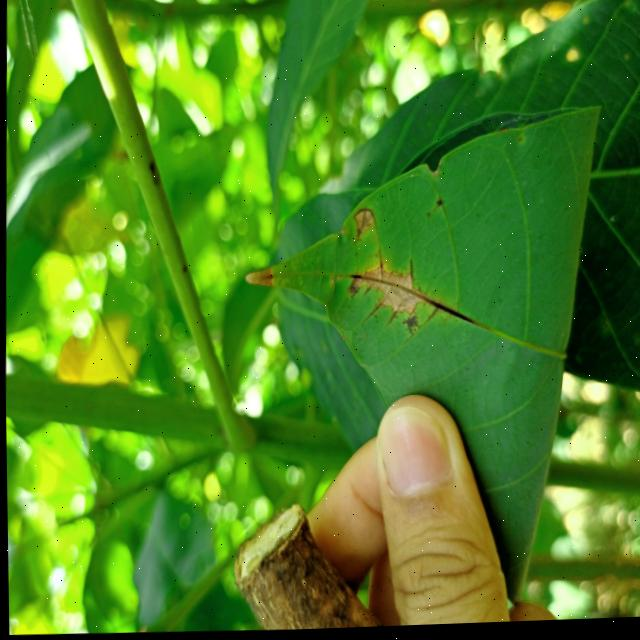Corynespora: (344, 244, 474, 342), (351, 210, 374, 247), (400, 317, 418, 337)
